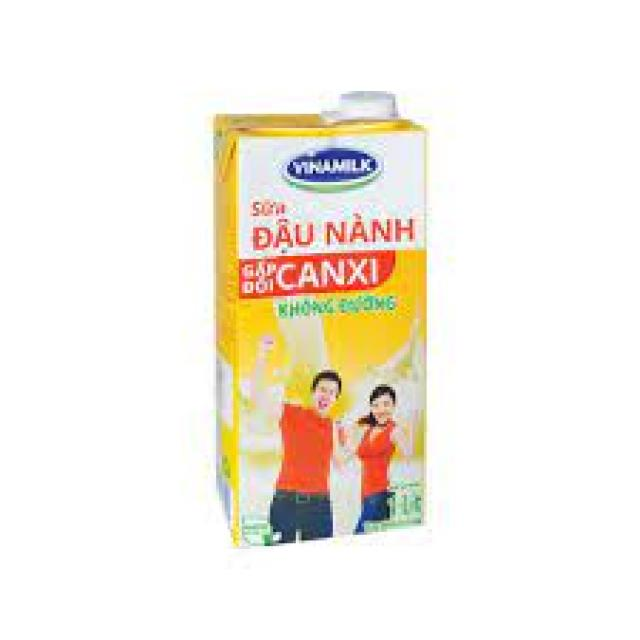non_white_jug: (192, 85, 437, 560)
